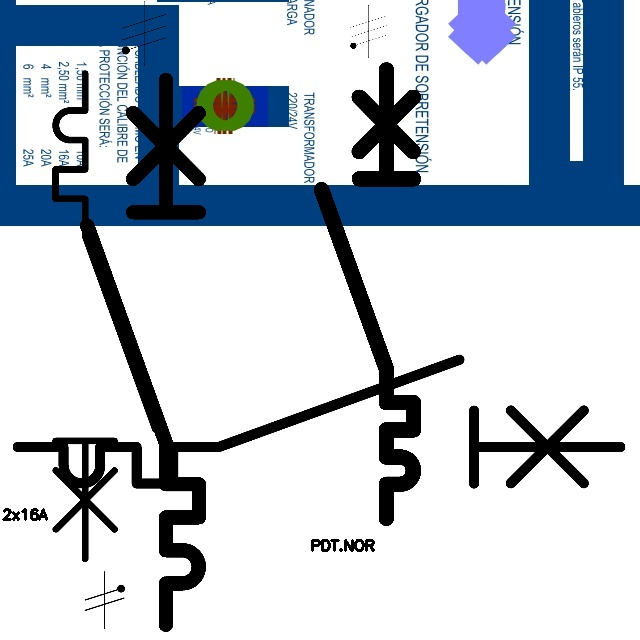interruptor_termomagnetico: (2, 344, 636, 499), (73, 65, 213, 639), (43, 61, 168, 571), (310, 58, 425, 530)
